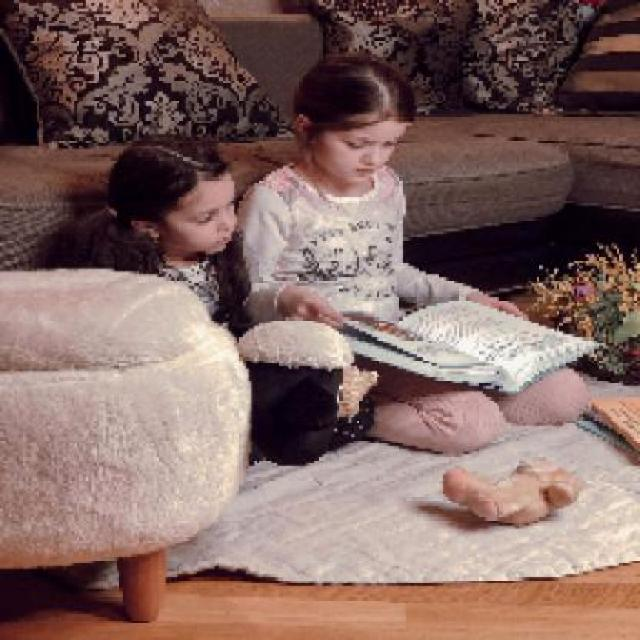child: (241, 50, 590, 453), (37, 134, 252, 340)
